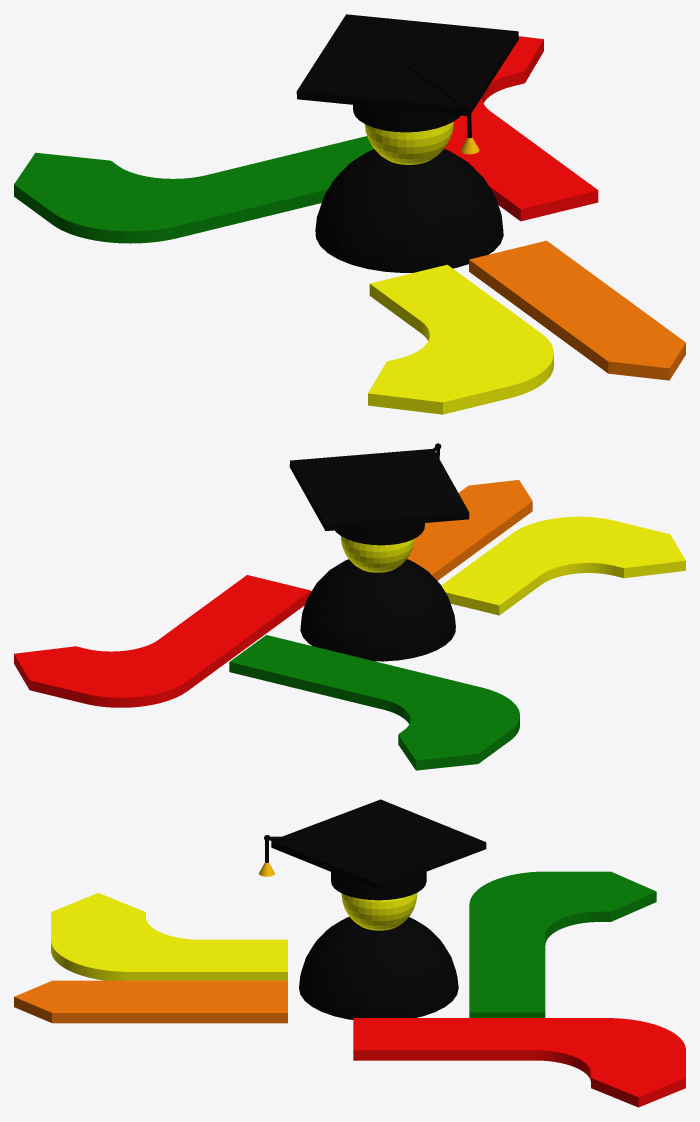
File: road.glb
3 renders of one model, top to bottom at view 1: azimuth 30°, elevation 25°; view 2: azimuth 150°, elevation 25°; view 3: azimuth 270°, elevation 25°, orthographic. The views are drawn at different scales.
Visible parts, largest first — view 1: road; view 2: road; view 3: road.
Part boxes in pixels (x1,y1,x2,y2): road: [14, 14, 685, 414]; road: [14, 443, 685, 770]; road: [14, 799, 685, 1107].
Size of the model in its own units: 14.06 by 4.38 by 17.69.
